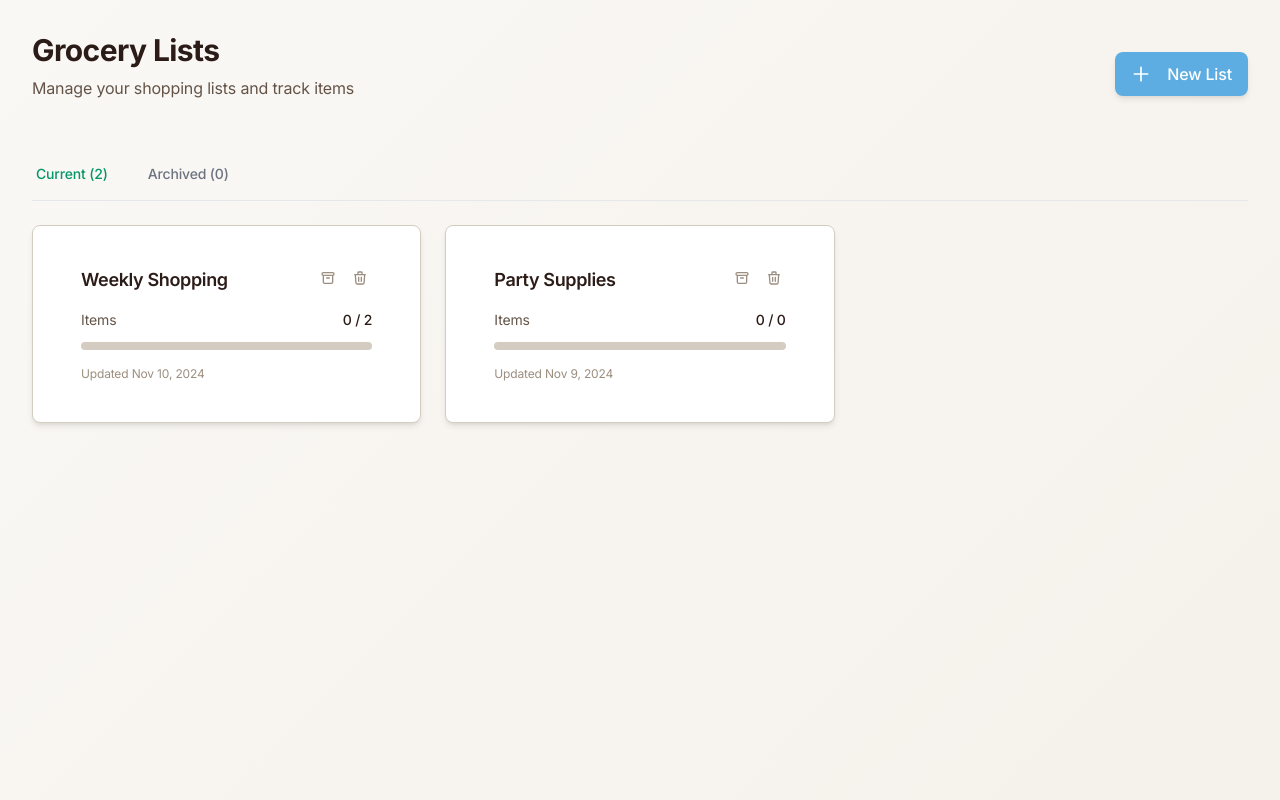
Scenario: GroceryListsPage › Delete functionality › should delete list when confirmed
expect the heading "Grocery Lists" is shown: met, box [32, 32, 219, 68]
expect the heading "Weekly Shopping" is shown: met, box [81, 269, 228, 290]
Click the button named "delete list" at (360, 278), box [348, 266, 372, 290]
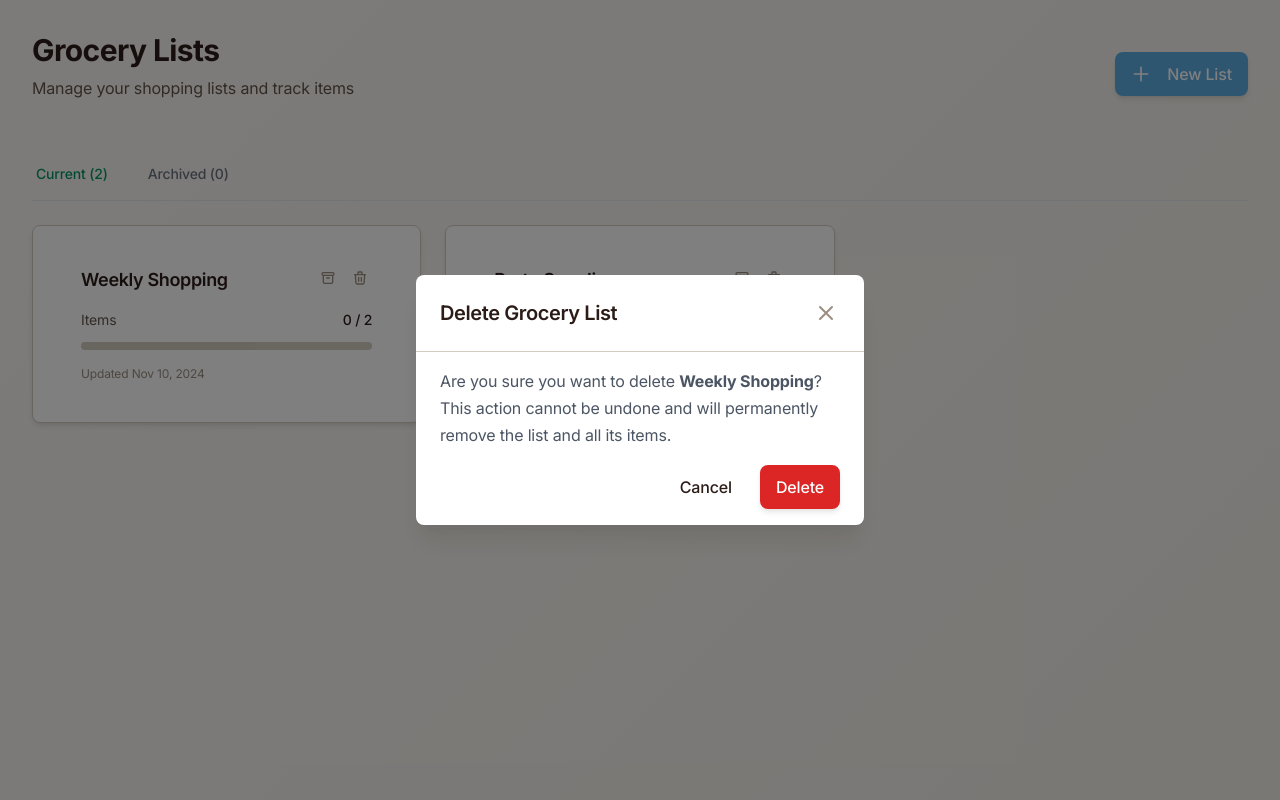
expect the heading "Delete Grocery List" is shown: met, box [440, 299, 617, 327]
Click delete
Click the button "Delete" at (800, 487), box [760, 465, 840, 509]
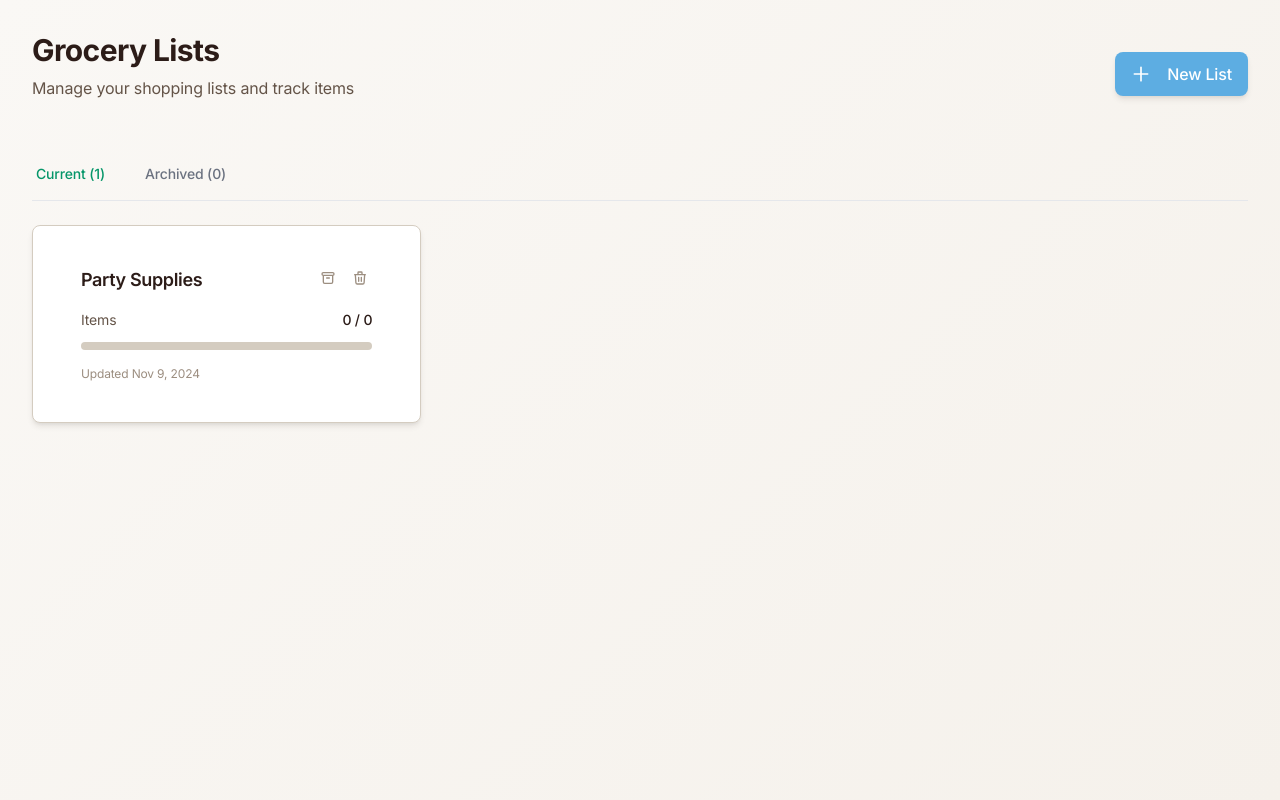
expect the heading "Party Supplies" is shown: met, box [81, 269, 202, 290]
expect the link "Weekly Shopping" is gone: met
